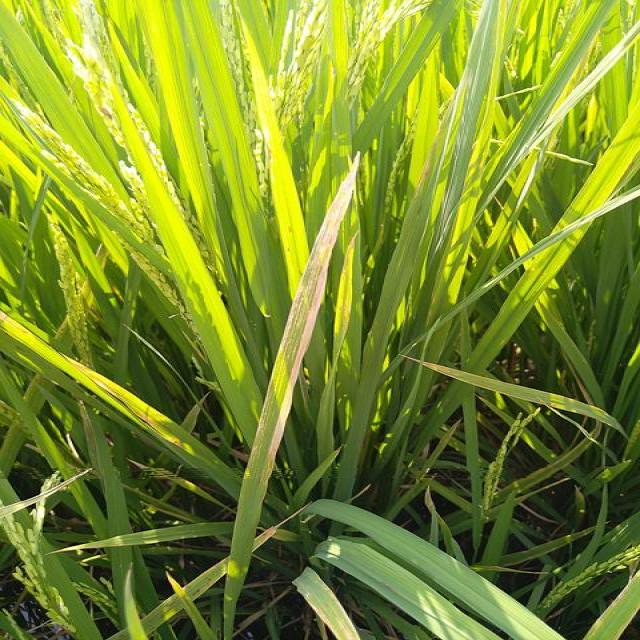Leaf Blight: (248, 155, 360, 490)
